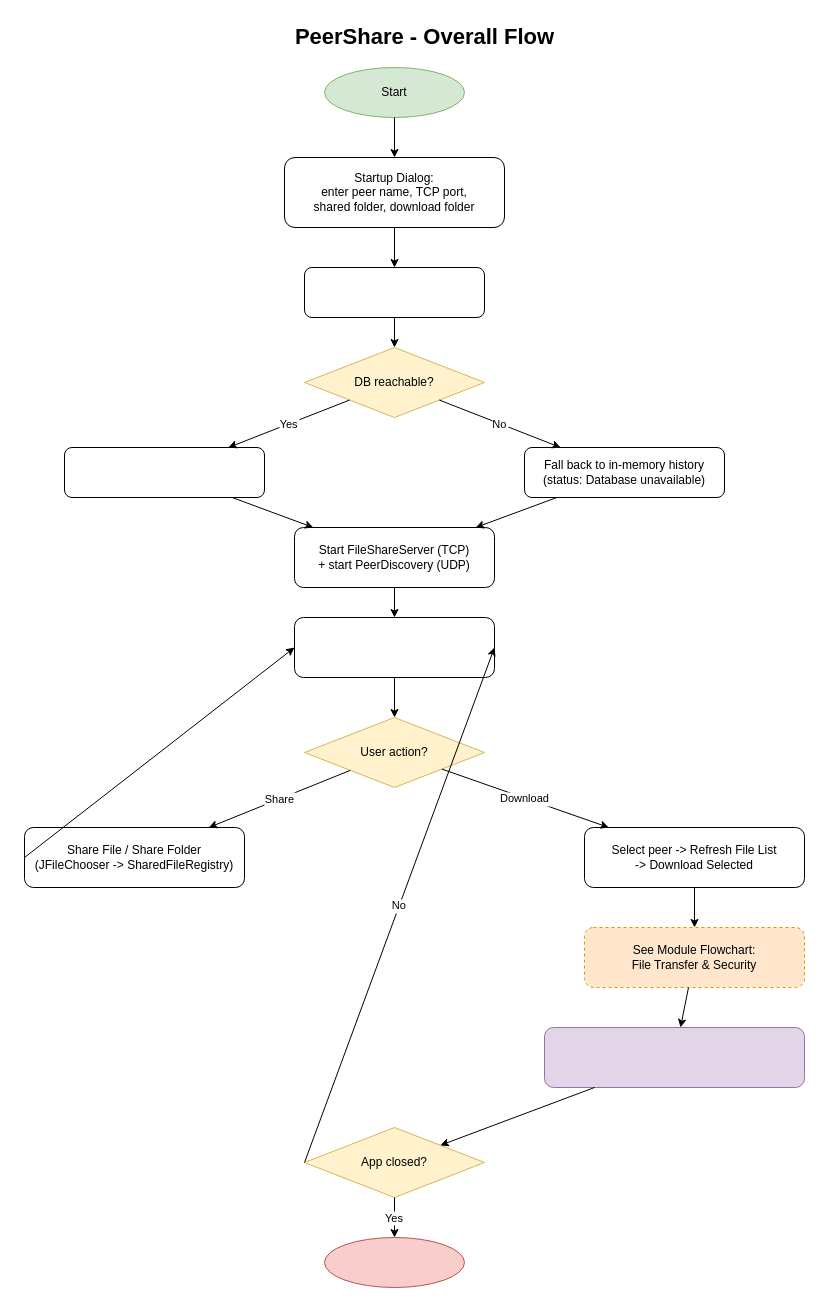
This 822x1305 diagram has some shape labels left out. Here are the shapes that lost their labels. From the top down, the box of each, then its label:
(304, 266, 484, 318): Try connecting to MySQL
(64, 446, 264, 498): Use MySQL-backed history (status: Database connected)
(294, 616, 494, 678): Main window shown. Peer list refreshes every 2s
(544, 1026, 804, 1088): Log SUCCESS/FAILED/HASH_MISMATCH to transfer_history (or in-memory)
(324, 1236, 464, 1288): End
